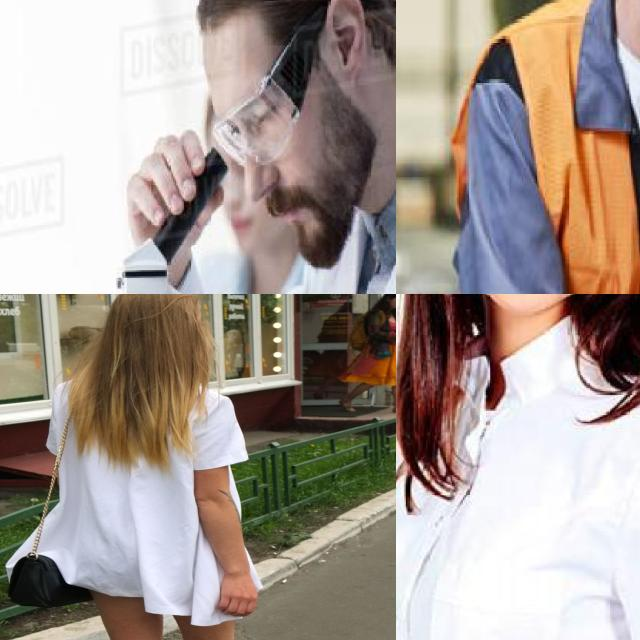No_Ear-Protection: (321, 0, 371, 91)
face_nomask: (203, 90, 329, 238)
glasses: (206, 14, 323, 166)
hand_noglove: (117, 128, 225, 242)
person: (101, 0, 396, 294), (396, 294, 640, 640), (437, 0, 640, 294)
vest: (474, 0, 640, 294)
